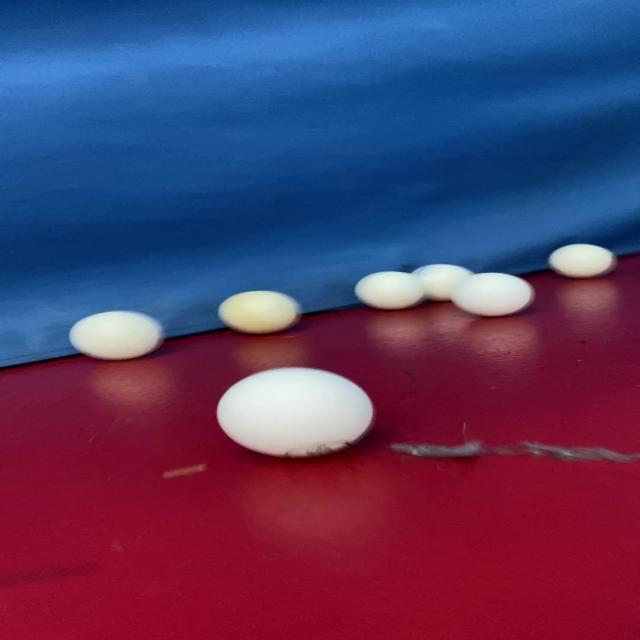ping-pong-ball: (209, 364, 382, 460), (62, 306, 172, 364), (447, 270, 538, 318), (214, 289, 306, 336), (542, 240, 620, 282), (348, 268, 426, 310), (406, 262, 480, 304)
